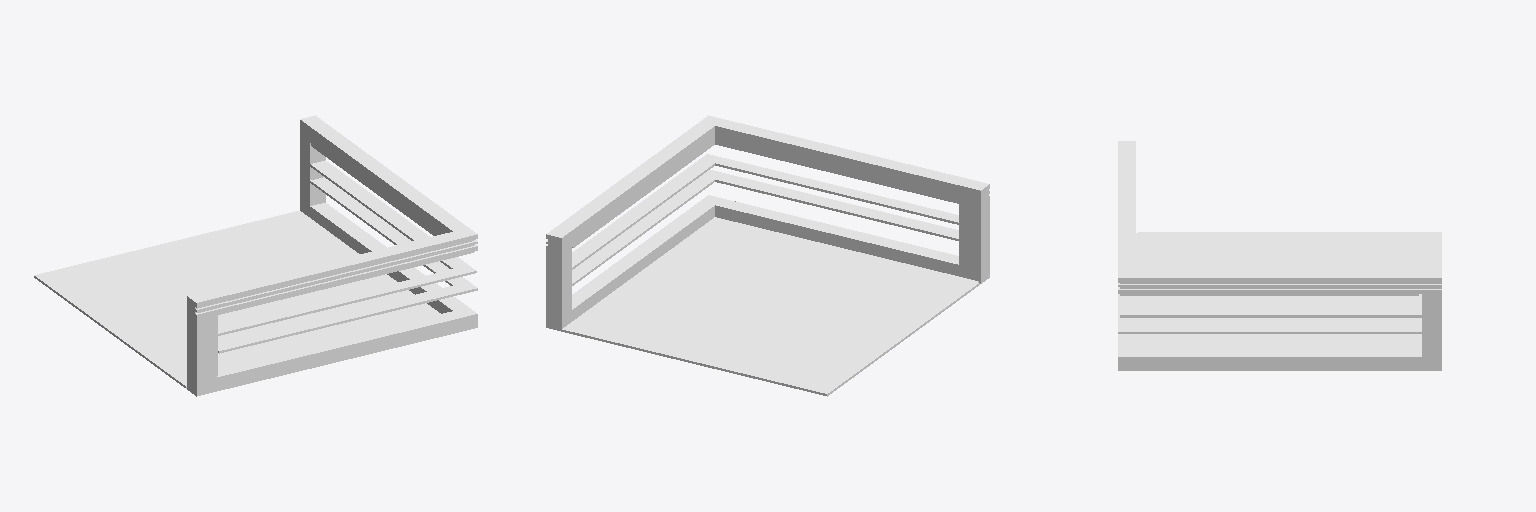
The model's file is building-a:window.obj.
3 renders of one model, left to right at view 1: azimuth 30°, elevation 25°; view 2: azimuth 150°, elevation 25°; view 3: azimuth 270°, elevation 25°, orthographic.
Parts seen in each view (by area): view 1: building-a:window; view 2: building-a:window; view 3: building-a:window.
Part boxes in pixels (left/top/right/bottom): building-a:window: left=34, top=115, right=477, bottom=396; building-a:window: left=546, top=115, right=989, bottom=396; building-a:window: left=1118, top=141, right=1441, bottom=370.
Size of the model in its own units: 126 by 40 by 126.